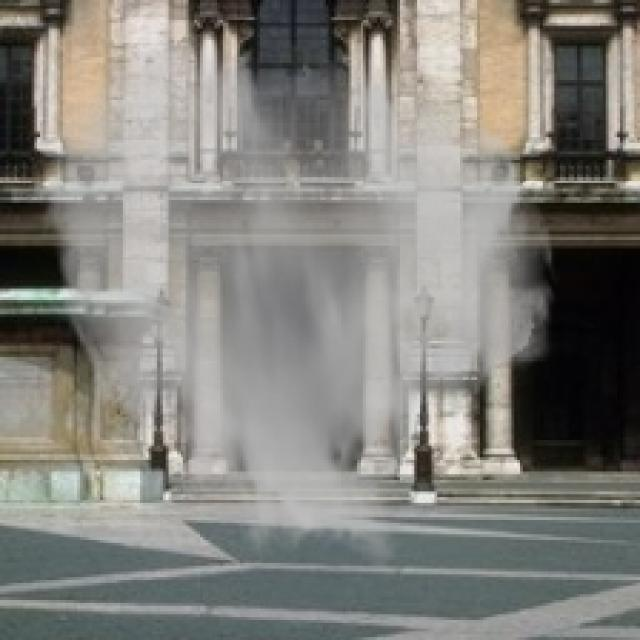smoke: (34, 29, 560, 572)
